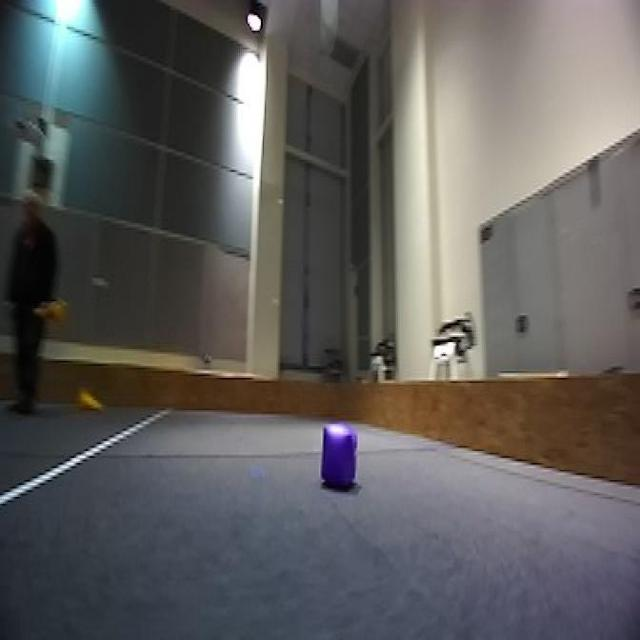frc_cone: (41, 294, 69, 327), (76, 384, 102, 414)
frc_cube: (315, 421, 358, 494)
